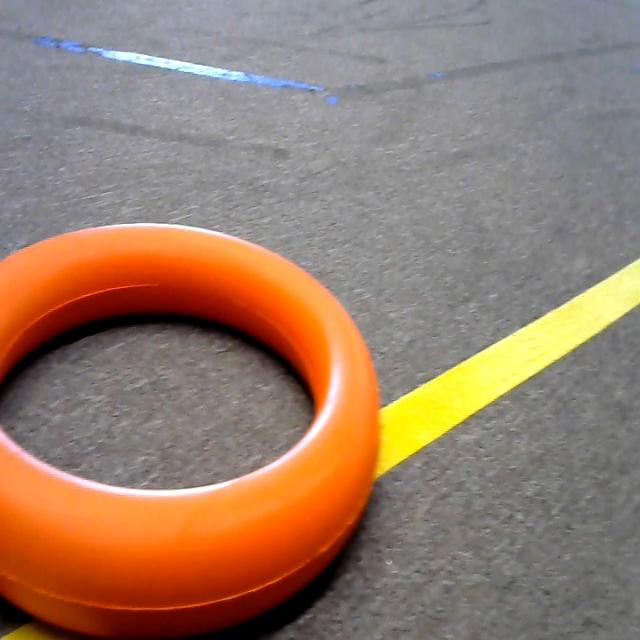note: (0, 205, 385, 639)
